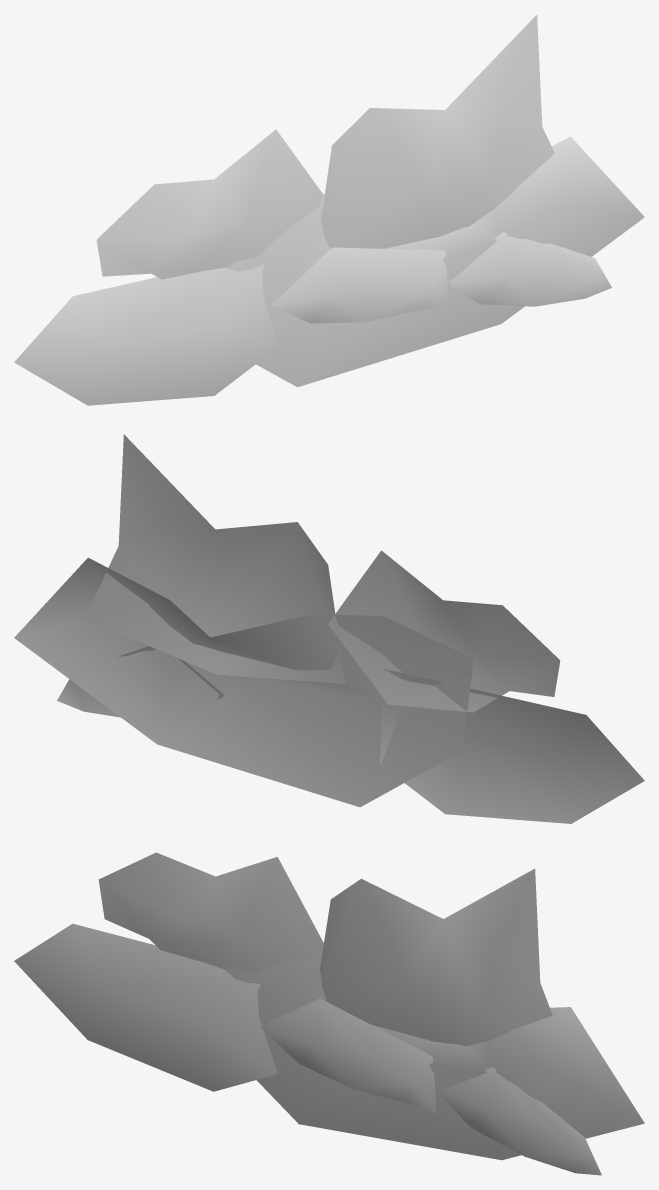
The model's file is SM_Env_Vine_11.fbx.
The picture shows the model from 3 angles, top to bottom: view 1: azimuth 30°, elevation 25°; view 2: azimuth 150°, elevation 25°; view 3: azimuth 330°, elevation 25°; orthographic projection.
Parts seen in each view (by area): view 1: SM_Env_Vine_11; view 2: SM_Env_Vine_11; view 3: SM_Env_Vine_11.
Boxes of the visible parts, bbox=[...] form: SM_Env_Vine_11: bbox=[14, 15, 644, 405]; SM_Env_Vine_11: bbox=[14, 434, 644, 823]; SM_Env_Vine_11: bbox=[14, 852, 644, 1175].
Bounding box in the file's own units: 297 × 142 × 9.44.
